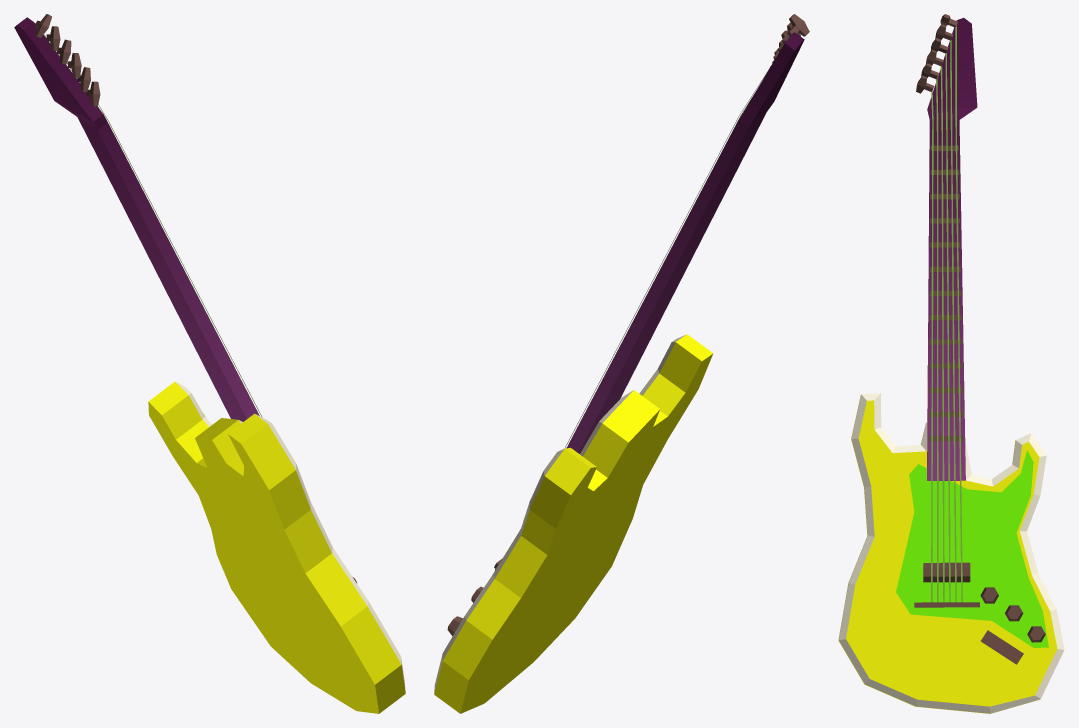
The model's file is Guitar.fbx.
The picture shows the model from 3 angles, left to right: view 1: azimuth 30°, elevation 25°; view 2: azimuth 150°, elevation 25°; view 3: azimuth 270°, elevation 25°; orthographic projection. The views are drawn at different scales.
Visible parts, largest first — view 1: Guitar; view 2: Guitar; view 3: Guitar.
Boxes of the visible parts, x1,y1,x2,y2 form: Guitar: (14, 14, 405, 713); Guitar: (434, 14, 809, 713); Guitar: (838, 14, 1064, 713).
Bounding box in the file's own units: 19.05 × 40.84 × 14.19.
